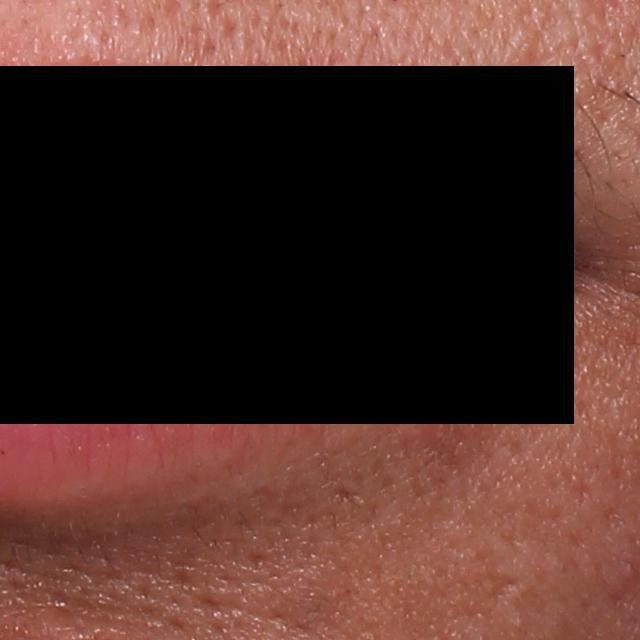atrophic_scar: (485, 569, 514, 605)
